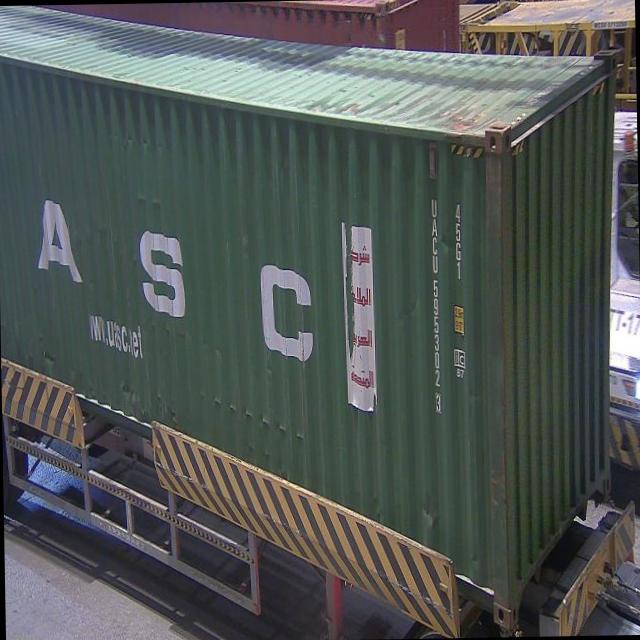Deframe_or_Dent: (121, 371, 175, 429), (418, 490, 450, 536)
Rust: (476, 102, 516, 214)
